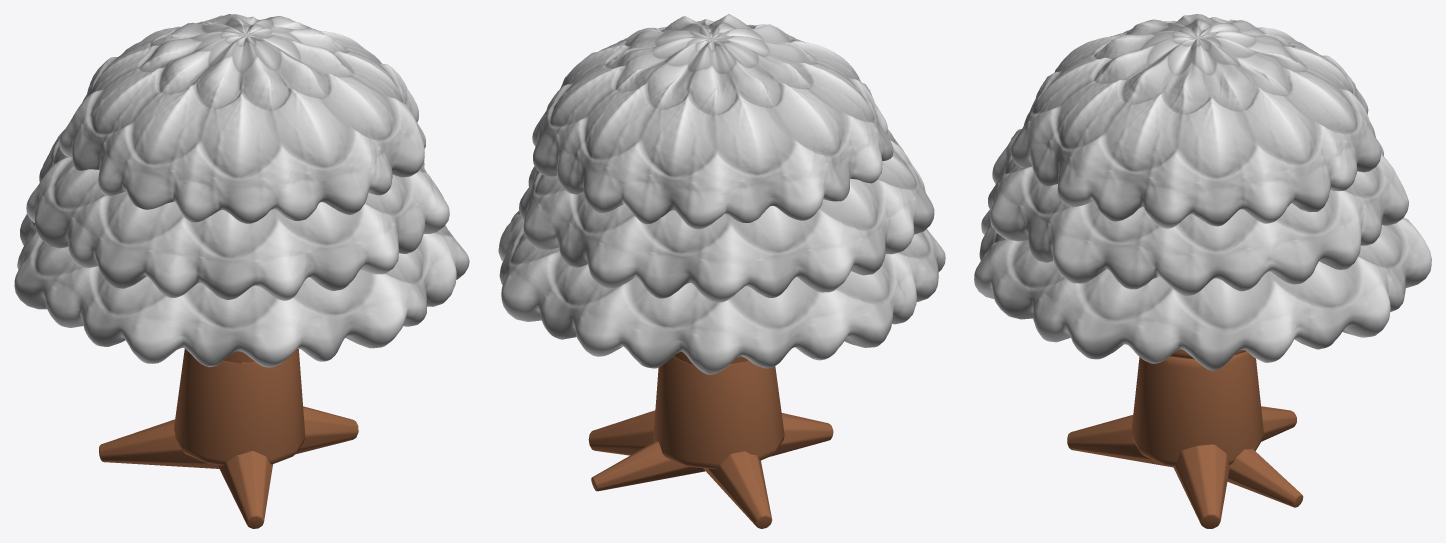
The model's file is dream_island_tree.glb.
The picture shows the model from 3 angles, left to right: view 1: azimuth 30°, elevation 25°; view 2: azimuth 150°, elevation 25°; view 3: azimuth 270°, elevation 25°; orthographic projection.
Visible parts, largest first — view 1: Tree_Canopy_Upper, Tree_Canopy_Middle, Tree_Canopy_Lower, Tree_Trunk_00, Tree_Root_01, Tree_Root_02, Tree_Root_00; view 2: Tree_Canopy_Upper, Tree_Canopy_Lower, Tree_Canopy_Middle, Tree_Trunk_00, Tree_Root_01, Tree_Root_03, Tree_Root_00, Tree_Root_02; view 3: Tree_Canopy_Upper, Tree_Canopy_Lower, Tree_Canopy_Middle, Tree_Trunk_00, Tree_Root_00, Tree_Root_02, Tree_Root_03, Tree_Root_01.
Part boxes in pixels (bbox=[...]): Tree_Canopy_Upper: bbox=[59, 14, 425, 223]; Tree_Canopy_Middle: bbox=[26, 129, 449, 300]; Tree_Canopy_Lower: bbox=[14, 214, 469, 367]; Tree_Trunk_00: bbox=[174, 348, 305, 465]; Tree_Root_01: bbox=[99, 419, 219, 468]; Tree_Root_02: bbox=[217, 451, 272, 528]; Tree_Root_00: bbox=[296, 406, 358, 453]; Tree_Canopy_Upper: bbox=[532, 14, 893, 229]; Tree_Canopy_Lower: bbox=[498, 211, 945, 374]; Tree_Canopy_Middle: bbox=[519, 129, 934, 302]; Tree_Trunk_00: bbox=[653, 356, 784, 469]; Tree_Root_01: bbox=[703, 451, 772, 528]; Tree_Root_03: bbox=[591, 441, 705, 491]; Tree_Root_00: bbox=[588, 410, 655, 455]; Tree_Root_02: bbox=[770, 413, 833, 456]; Tree_Canopy_Upper: bbox=[1011, 14, 1381, 228]; Tree_Canopy_Lower: bbox=[974, 210, 1431, 370]; Tree_Canopy_Middle: bbox=[988, 129, 1408, 295]; Tree_Trunk_00: bbox=[1131, 351, 1263, 466]; Tree_Root_00: bbox=[1173, 444, 1229, 528]; Tree_Root_02: bbox=[1067, 415, 1172, 467]; Tree_Root_03: bbox=[1227, 449, 1303, 507]; Tree_Root_01: bbox=[1261, 406, 1296, 441].
Size of the model in its own units: 3.52 by 3.75 by 3.53.
Materials: 5 (3 with a texture image).
